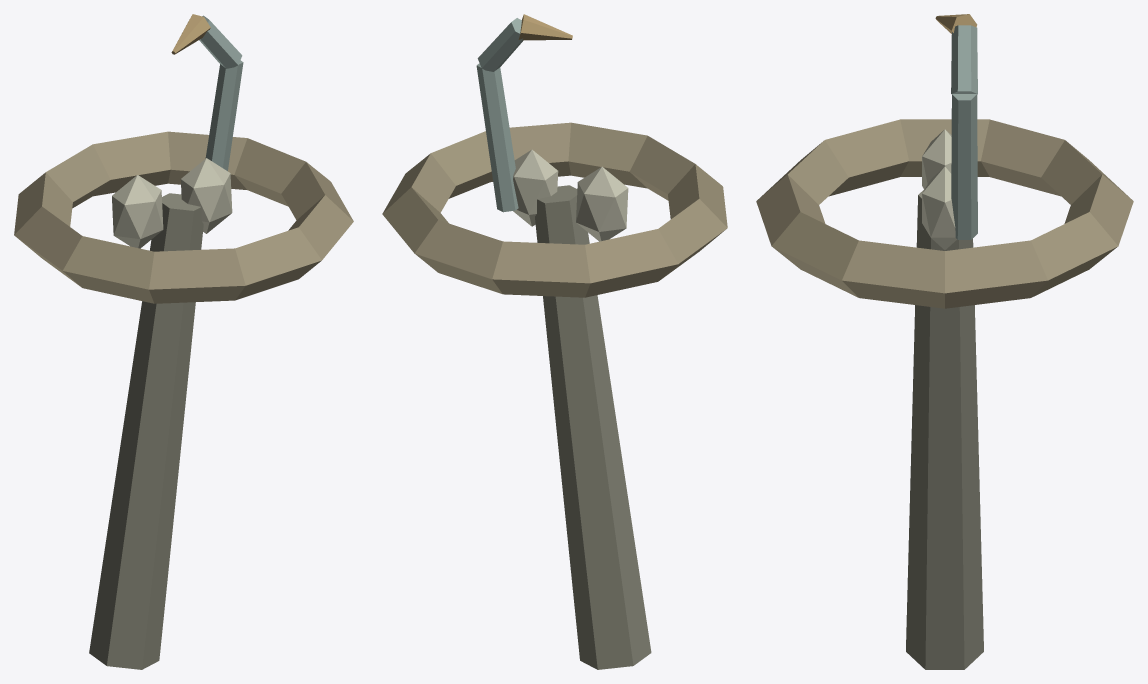
File: map-exclusive-v3__lake_02.glb
The picture shows the model from 3 angles, left to right: view 1: azimuth 30°, elevation 25°; view 2: azimuth 150°, elevation 25°; view 3: azimuth 270°, elevation 25°; orthographic projection. The views are drawn at different scales.
Parts seen in each view (by area): view 1: lake_02; view 2: lake_02; view 3: lake_02.
Boxes of the visible parts, left/top/right/bottom form: lake_02: left=14, top=14, right=353, bottom=669; lake_02: left=382, top=14, right=727, bottom=669; lake_02: left=756, top=14, right=1133, bottom=669.
Bounding box in the file's own units: 1.53 × 3.09 × 1.54.
